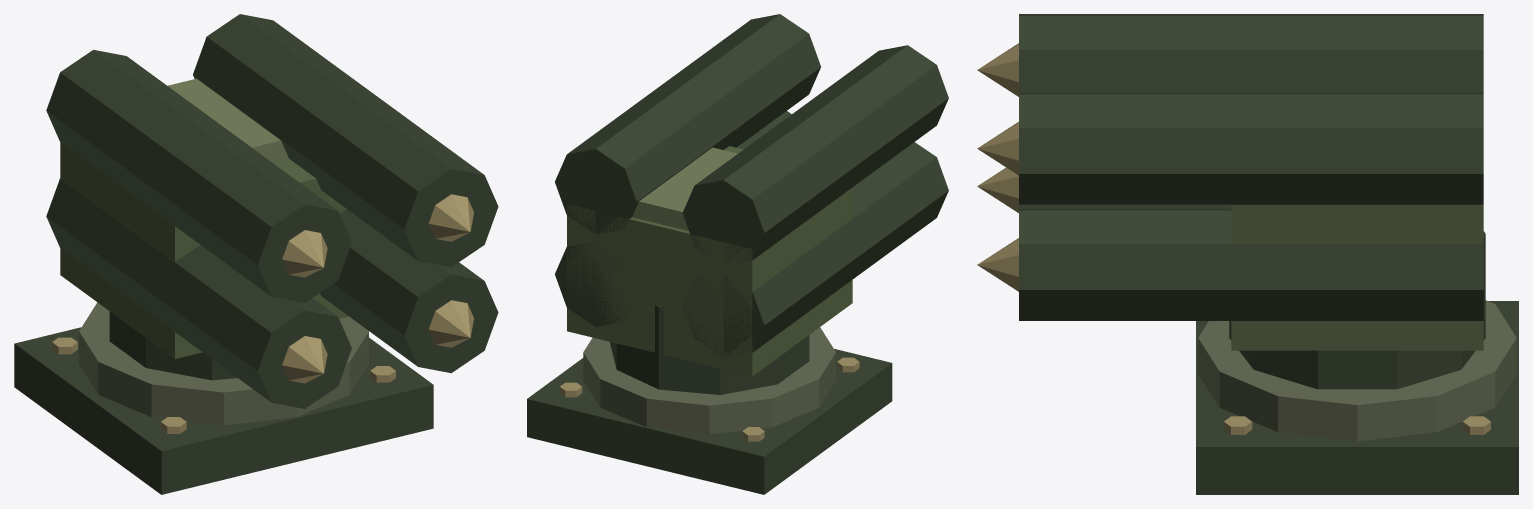
File: missileRack.obj
3 renders of one model, left to right at view 1: azimuth 30°, elevation 25°; view 2: azimuth 150°, elevation 25°; view 3: azimuth 270°, elevation 25°, orthographic. The views are drawn at different scales.
Parts seen in each view (by area): view 1: MOVING.009, BASE.020; view 2: MOVING.009, BASE.020; view 3: MOVING.009, BASE.020.
Boxes of the visible parts, x1,y1,x2,y2 form: MOVING.009: [46, 14, 498, 408]; BASE.020: [14, 302, 433, 494]; MOVING.009: [555, 14, 948, 394]; BASE.020: [527, 327, 892, 494]; MOVING.009: [977, 14, 1485, 389]; BASE.020: [1196, 300, 1518, 494].
Bounding box in the file's own units: 0.78 × 0.915 × 1.23.
Materials: 1 (1 with a texture image).
